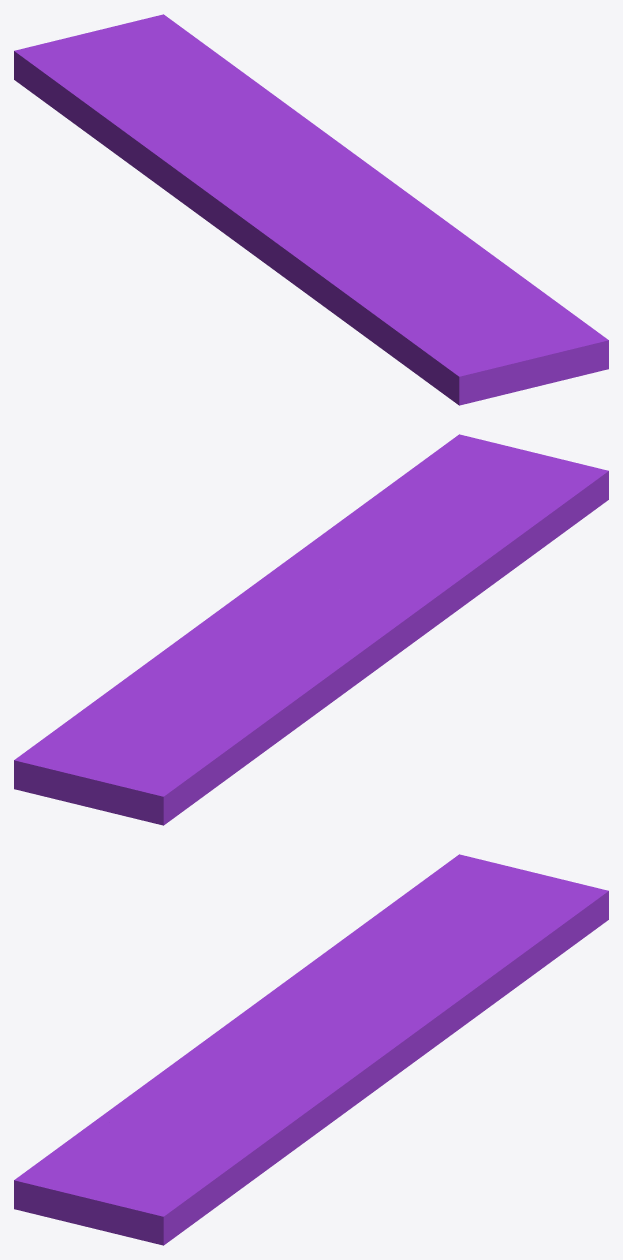
File: StairsStep_127_chunks.fbx
3 renders of one model, top to bottom at view 1: azimuth 30°, elevation 25°; view 2: azimuth 150°, elevation 25°; view 3: azimuth 330°, elevation 25°, orthographic.
Parts seen in each view (by area): view 1: StairsStep_127_2, StairsStep_127_0, StairsStep_127_3, StairsStep_127_1; view 2: StairsStep_127_2, StairsStep_127_0, StairsStep_127_3, StairsStep_127_1; view 3: StairsStep_127_2, StairsStep_127_0, StairsStep_127_3, StairsStep_127_1.
Part boxes in pixels (left/top/right/bottom): StairsStep_127_2: left=14, top=14, right=387, bottom=191; StairsStep_127_0: left=314, top=178, right=608, bottom=405; StairsStep_127_3: left=275, top=191, right=393, bottom=328; StairsStep_127_1: left=149, top=158, right=313, bottom=298; StairsStep_127_2: left=14, top=596, right=315, bottom=825; StairsStep_127_0: left=238, top=434, right=608, bottom=606; StairsStep_127_3: left=287, top=519, right=542, bottom=625; StairsStep_127_1: left=299, top=604, right=463, bottom=726; StairsStep_127_2: left=307, top=854, right=608, bottom=1078; StairsStep_127_0: left=14, top=1044, right=391, bottom=1245; StairsStep_127_3: left=80, top=1025, right=334, bottom=1131; StairsStep_127_1: left=198, top=962, right=312, bottom=1045.
Bounding box in the file's own units: 157 × 28.98 × 810.
